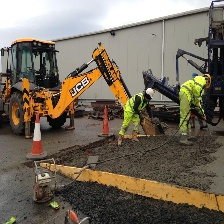helmet: (144, 87, 155, 102)
person: (177, 71, 213, 143), (123, 87, 153, 146)
vest: (181, 76, 206, 98), (126, 94, 144, 118)
